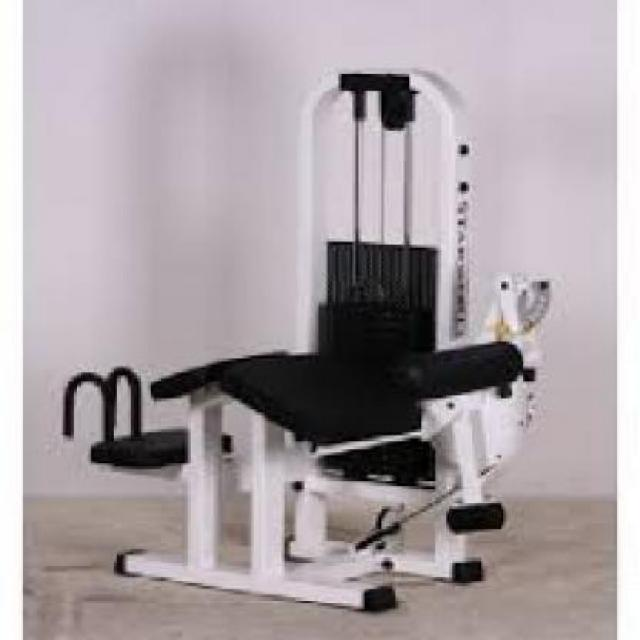reg curl machine: (58, 68, 550, 624)
